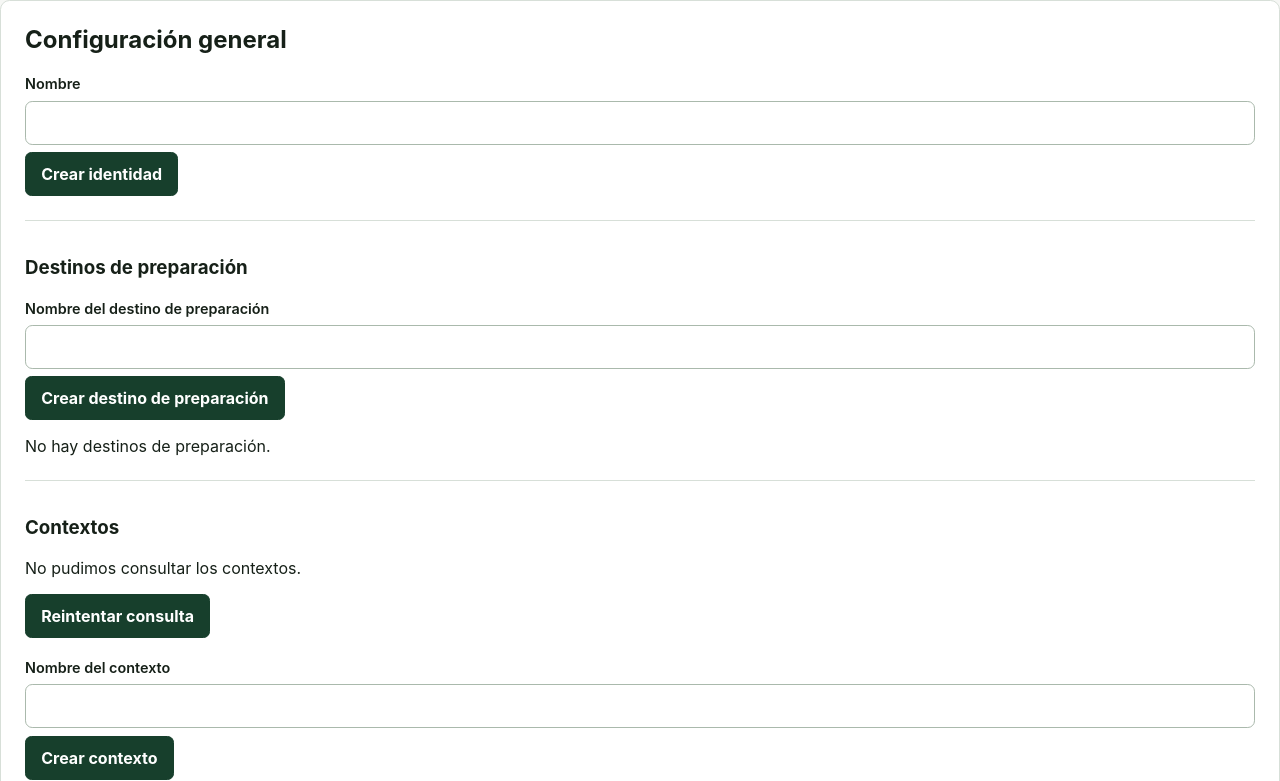
it: GeneralConfigurationPanel › creates with a UUID-v4 key and reconciles the authoritative response
The image size is (1280, 781).
Type "Nueva" into the field labelled "Nombre" at (640, 123), box [25,101,1255,145]
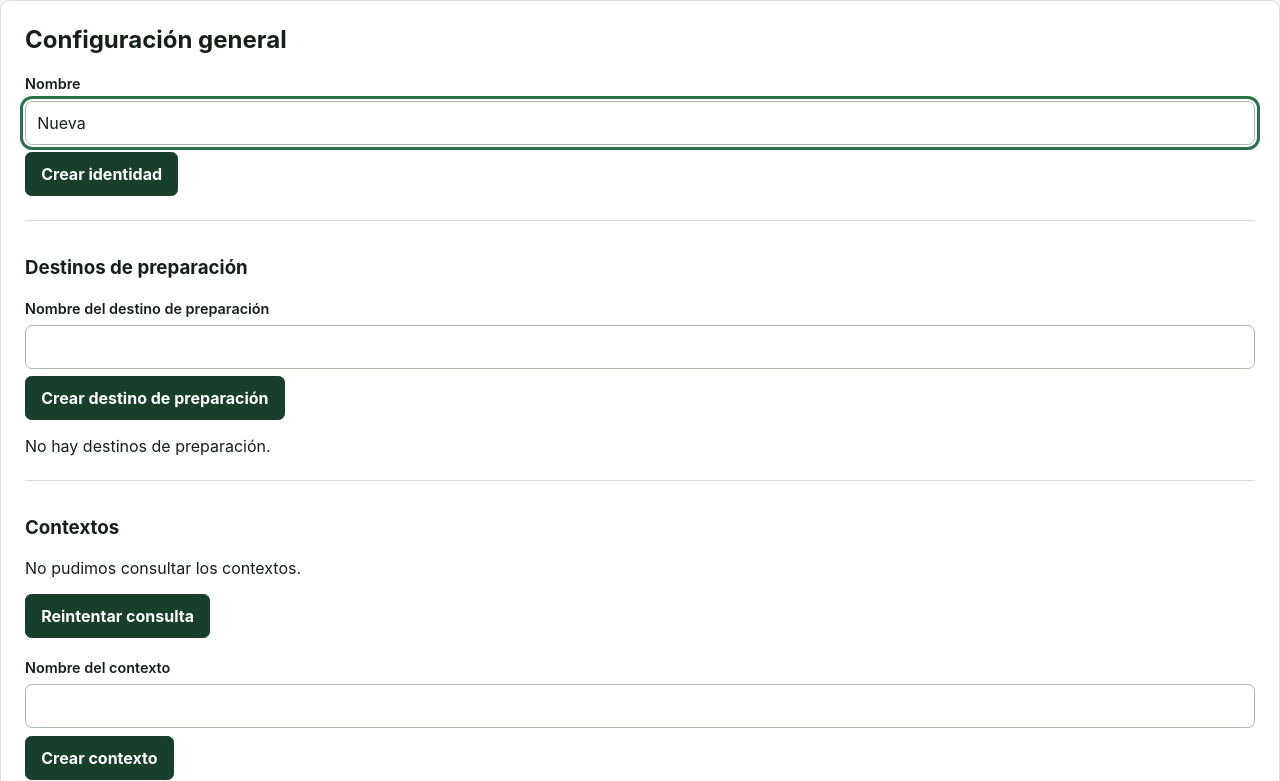
Click the button "Crear identidad" at (102, 174), box [25,152,178,196]
(page scrolled)
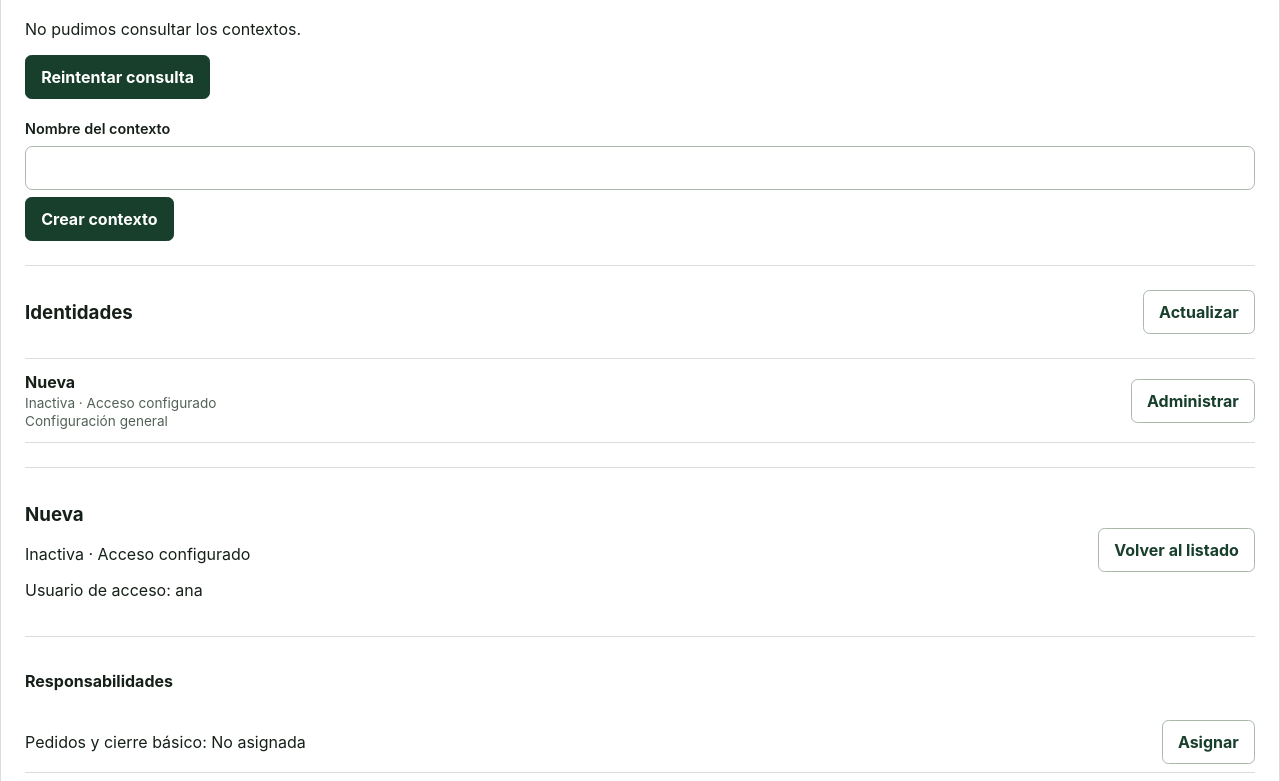
Check: the button with aria-label "Administrar Nueva" is shown, box [1131,379,1255,423]
